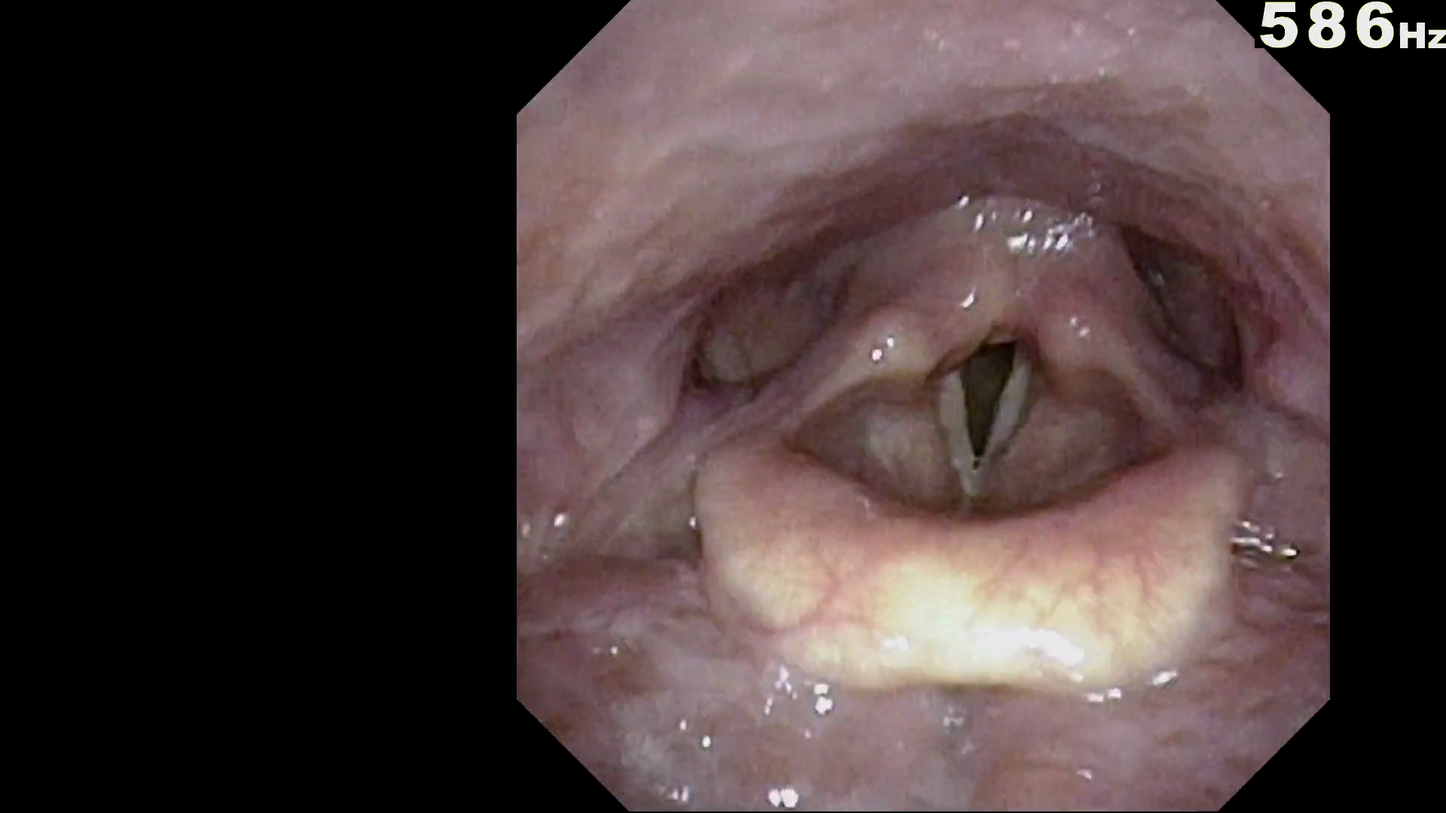epiglottis: (707, 459, 1220, 673)
trachea: (922, 330, 1064, 501)
